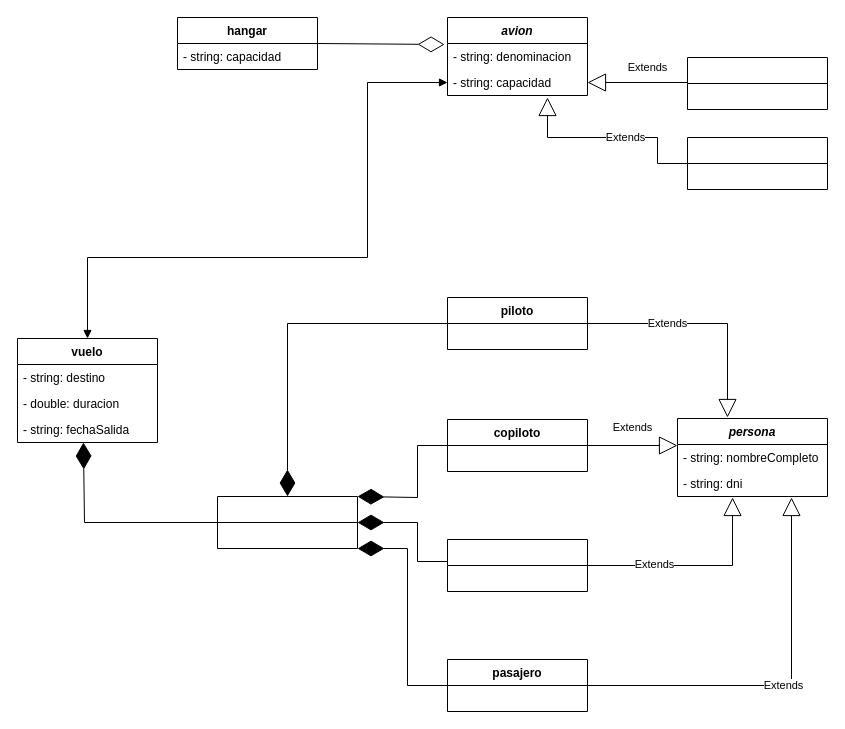
Image size: 845x729. Some labels were removed from this diagram. The shapes that lost their labels are listed below. From the top down, each one's centre as x and y in pixels, then its label:
At pixel 757 83: "avionPrivado".
At pixel 757 163: "avionComercial".
At pixel 287 522: "tripulacion".
At pixel 517 565: "azafata".
